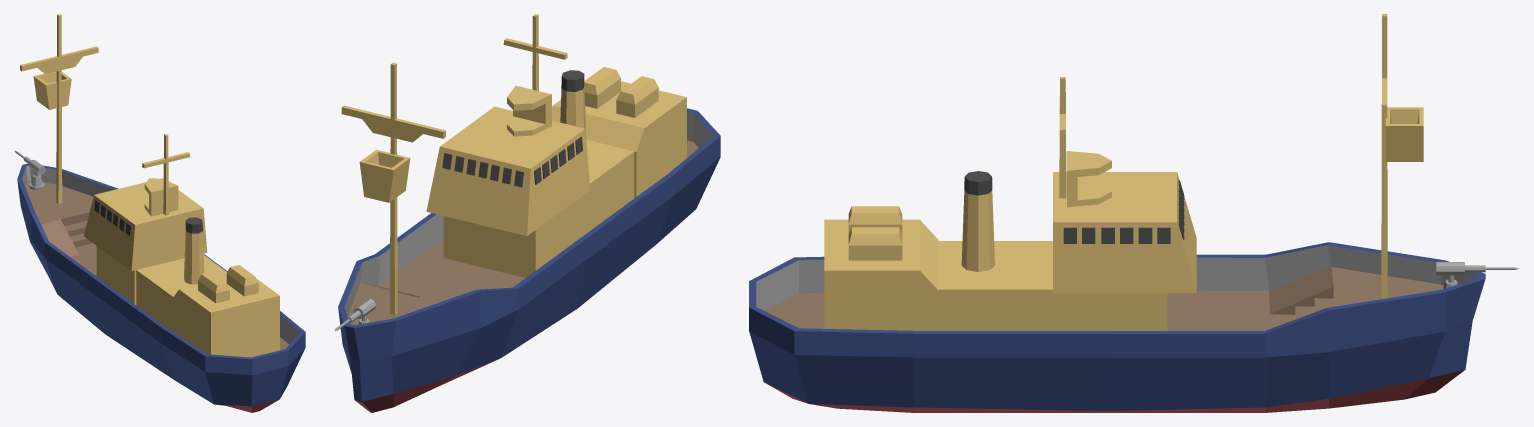
Rendered from Hunt_ani.fbx.
The picture shows the model from 3 angles, left to right: view 1: azimuth 30°, elevation 25°; view 2: azimuth 150°, elevation 25°; view 3: azimuth 270°, elevation 25°; orthographic projection. The views are drawn at different scales.
Visible parts, largest first — view 1: Hunt; view 2: Hunt; view 3: Hunt.
Part boxes in pixels (x1,y1,x2,y2): Hunt: (14,14,305,412); Hunt: (334,14,720,412); Hunt: (749,14,1519,412).
Size of the model in its own units: 201 by 459 by 830.
